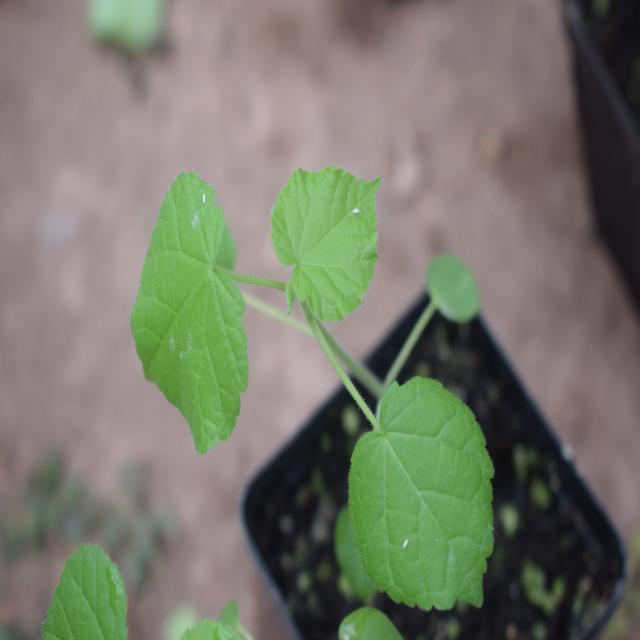abutilon theophrasti: (97, 132, 482, 600)
